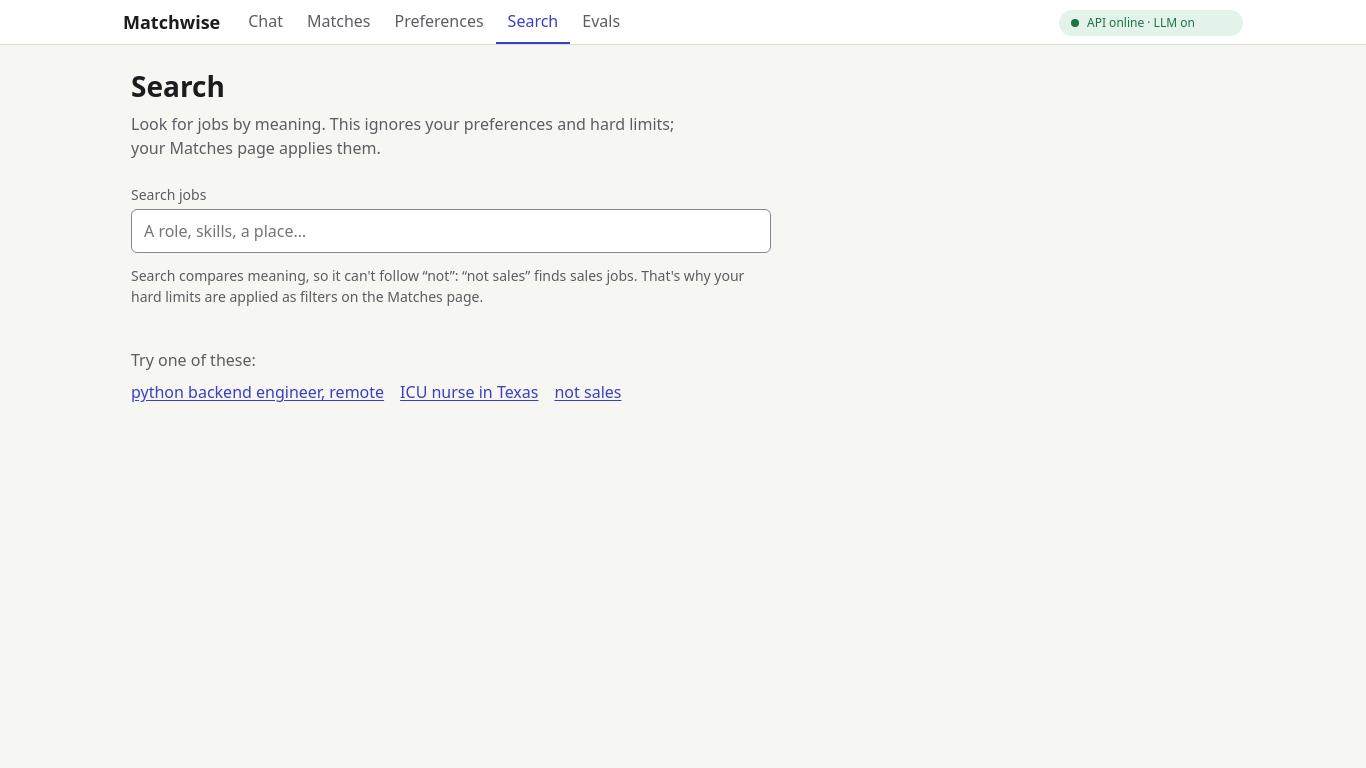
Test: searching › keeps the box in the URL as you type, and searches once you pause
The width and height of the screenshot is (1366, 768).
Type "python" into the search field labelled "Search jobs" at (451, 231), box [131,209,771,253]
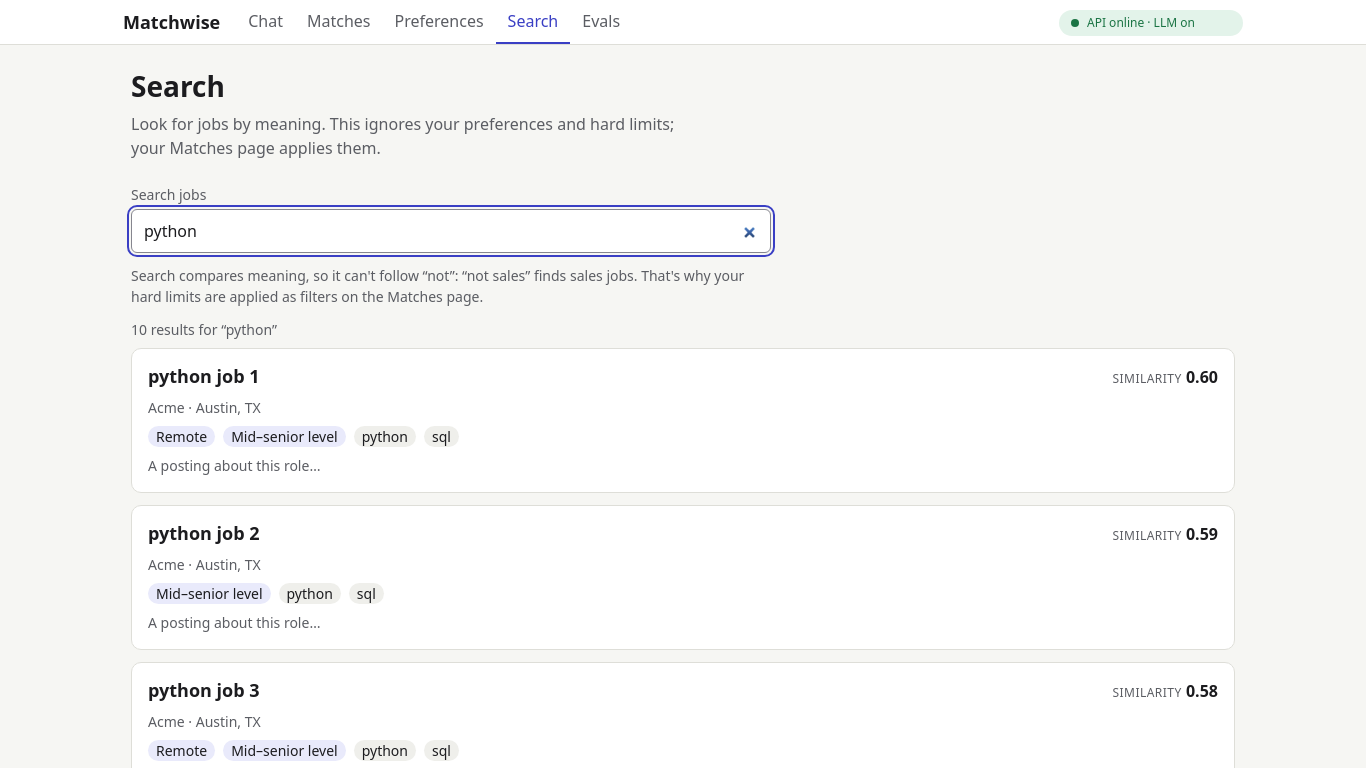
Result: the text "10 results for “python”" is shown at [131,320,277,339]
Result: the link "python job 1" is shown at [148,364,260,388]
